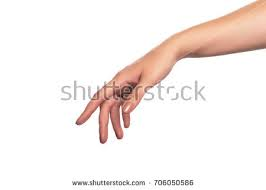hand: (70, 35, 205, 149)
